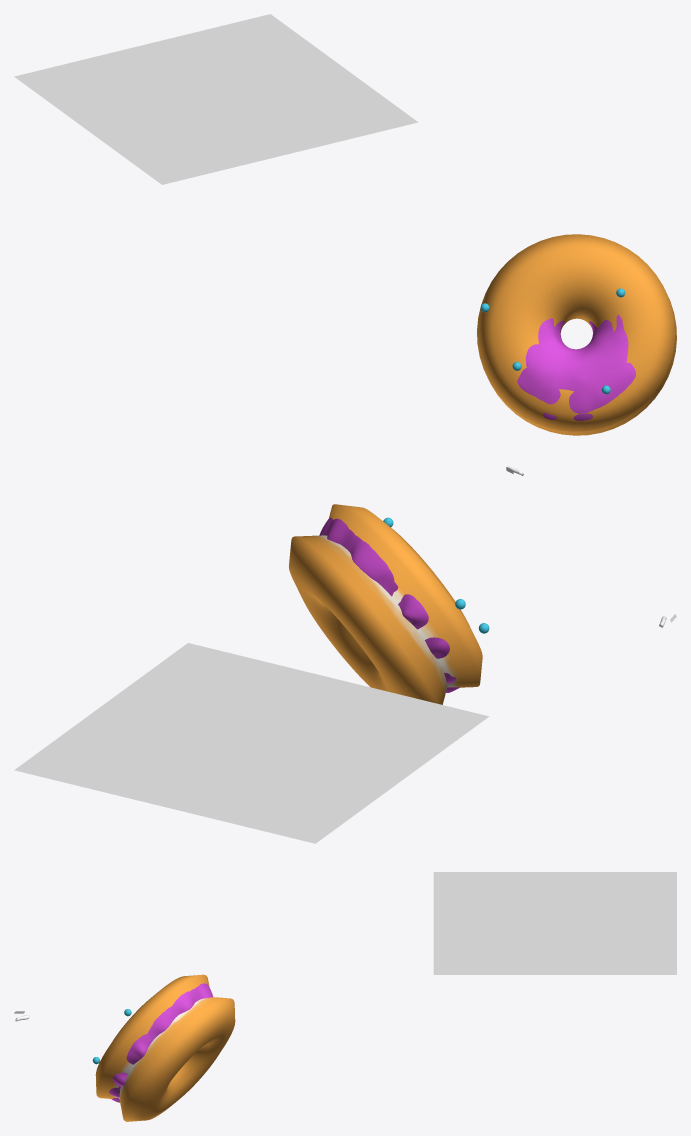
File: donut.glb
3 renders of one model, top to bottom at view 1: azimuth 30°, elevation 25°; view 2: azimuth 150°, elevation 25°; view 3: azimuth 270°, elevation 25°, orthographic. The views are drawn at different scales.
Parts seen in each view (by area): view 1: Plane, Donut, Icing; view 2: Plane, Donut, Icing; view 3: Plane, Donut, Icing.
Part boxes in pixels (left/top/right/bottom): Plane: left=14, top=14, right=418, bottom=184; Donut: left=477, top=234, right=676, bottom=435; Icing: left=517, top=314, right=635, bottom=420; Plane: left=14, top=643, right=489, bottom=843; Donut: left=289, top=504, right=482, bottom=704; Icing: left=319, top=517, right=459, bottom=692; Plane: left=433, top=872, right=676, bottom=974; Donut: left=95, top=974, right=235, bottom=1121; Icing: left=109, top=983, right=213, bottom=1102.
Bounding box in the file's own units: 2.62 × 1.34 × 5.45.
4 materials, 1 textured.
